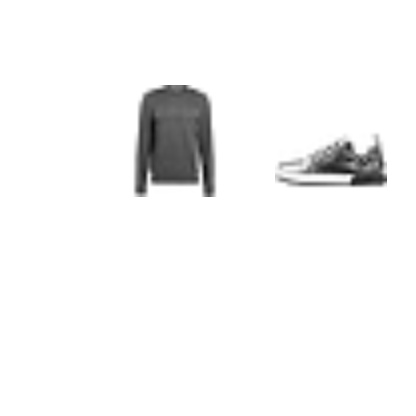Pullover: (119, 85, 231, 197)
Sneaker: (275, 102, 387, 214)
